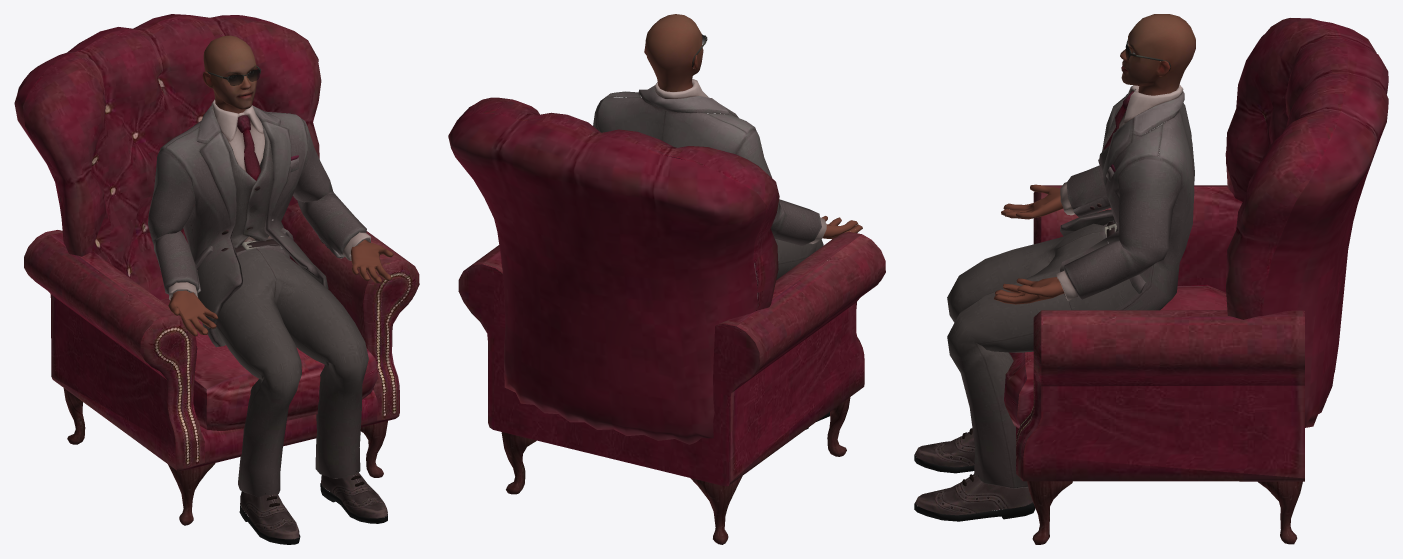
File: meldvortDoormail2.glb
3 views of the same model, side by side, from view 1: azimuth 30°, elevation 25°; view 2: azimuth 150°, elevation 25°; view 3: azimuth 270°, elevation 25° (orthographic). The views are drawn at different scales.
Visible parts, largest first — view 1: Wolf3D_Head; view 2: Wolf3D_Head; view 3: Wolf3D_Head.
Part boxes in pixels (x1=…): Wolf3D_Head: x1=14, y1=14, x2=419, y2=544; Wolf3D_Head: x1=448, y1=14, x2=885, y2=544; Wolf3D_Head: x1=914, y1=14, x2=1388, y2=544.
Bounding box in the file's own units: 1.06 × 1.5 × 1.36.
Materials: 9 (9 with a texture image).
